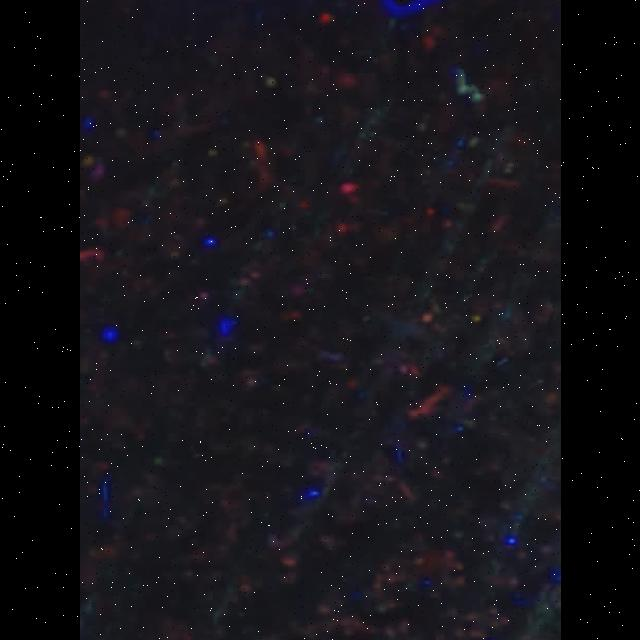Fibre: (456, 66, 482, 104)
